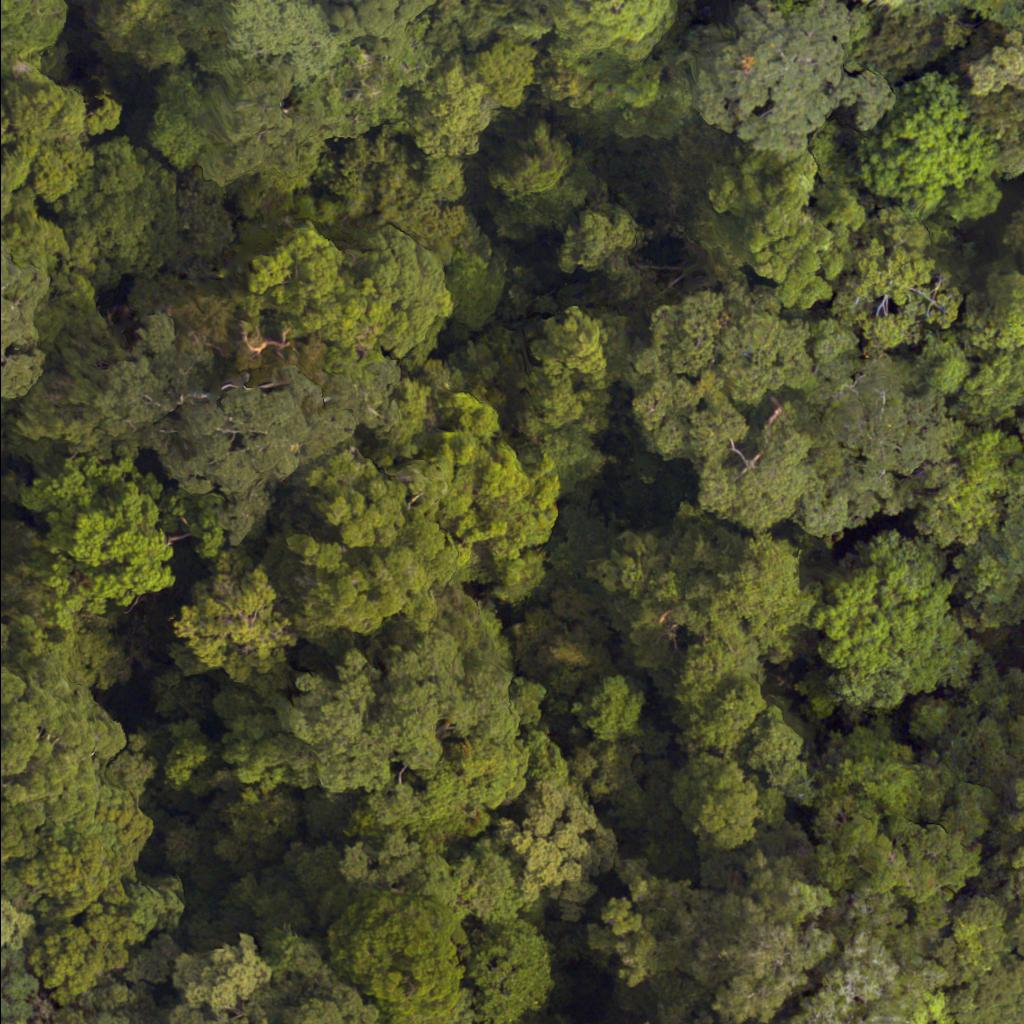crown: (696, 0, 907, 167), (322, 879, 479, 1023), (529, 0, 689, 98), (0, 73, 94, 237), (0, 259, 38, 403), (966, 276, 1023, 356), (998, 773, 1023, 863)
